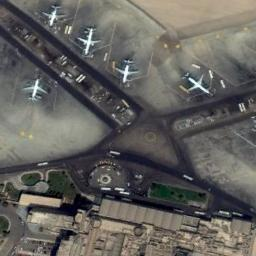Airplane: (22, 75, 51, 106), (77, 24, 102, 57), (184, 68, 212, 96), (40, 4, 65, 28), (116, 58, 140, 83)
